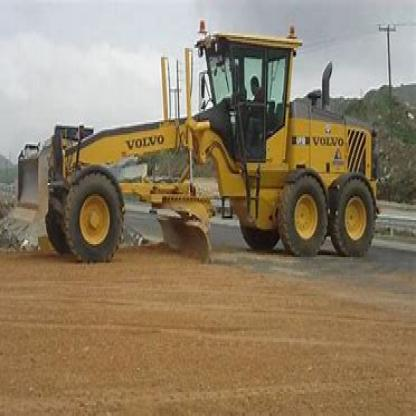bull_dozer/loader/grader: (14, 22, 394, 268)
